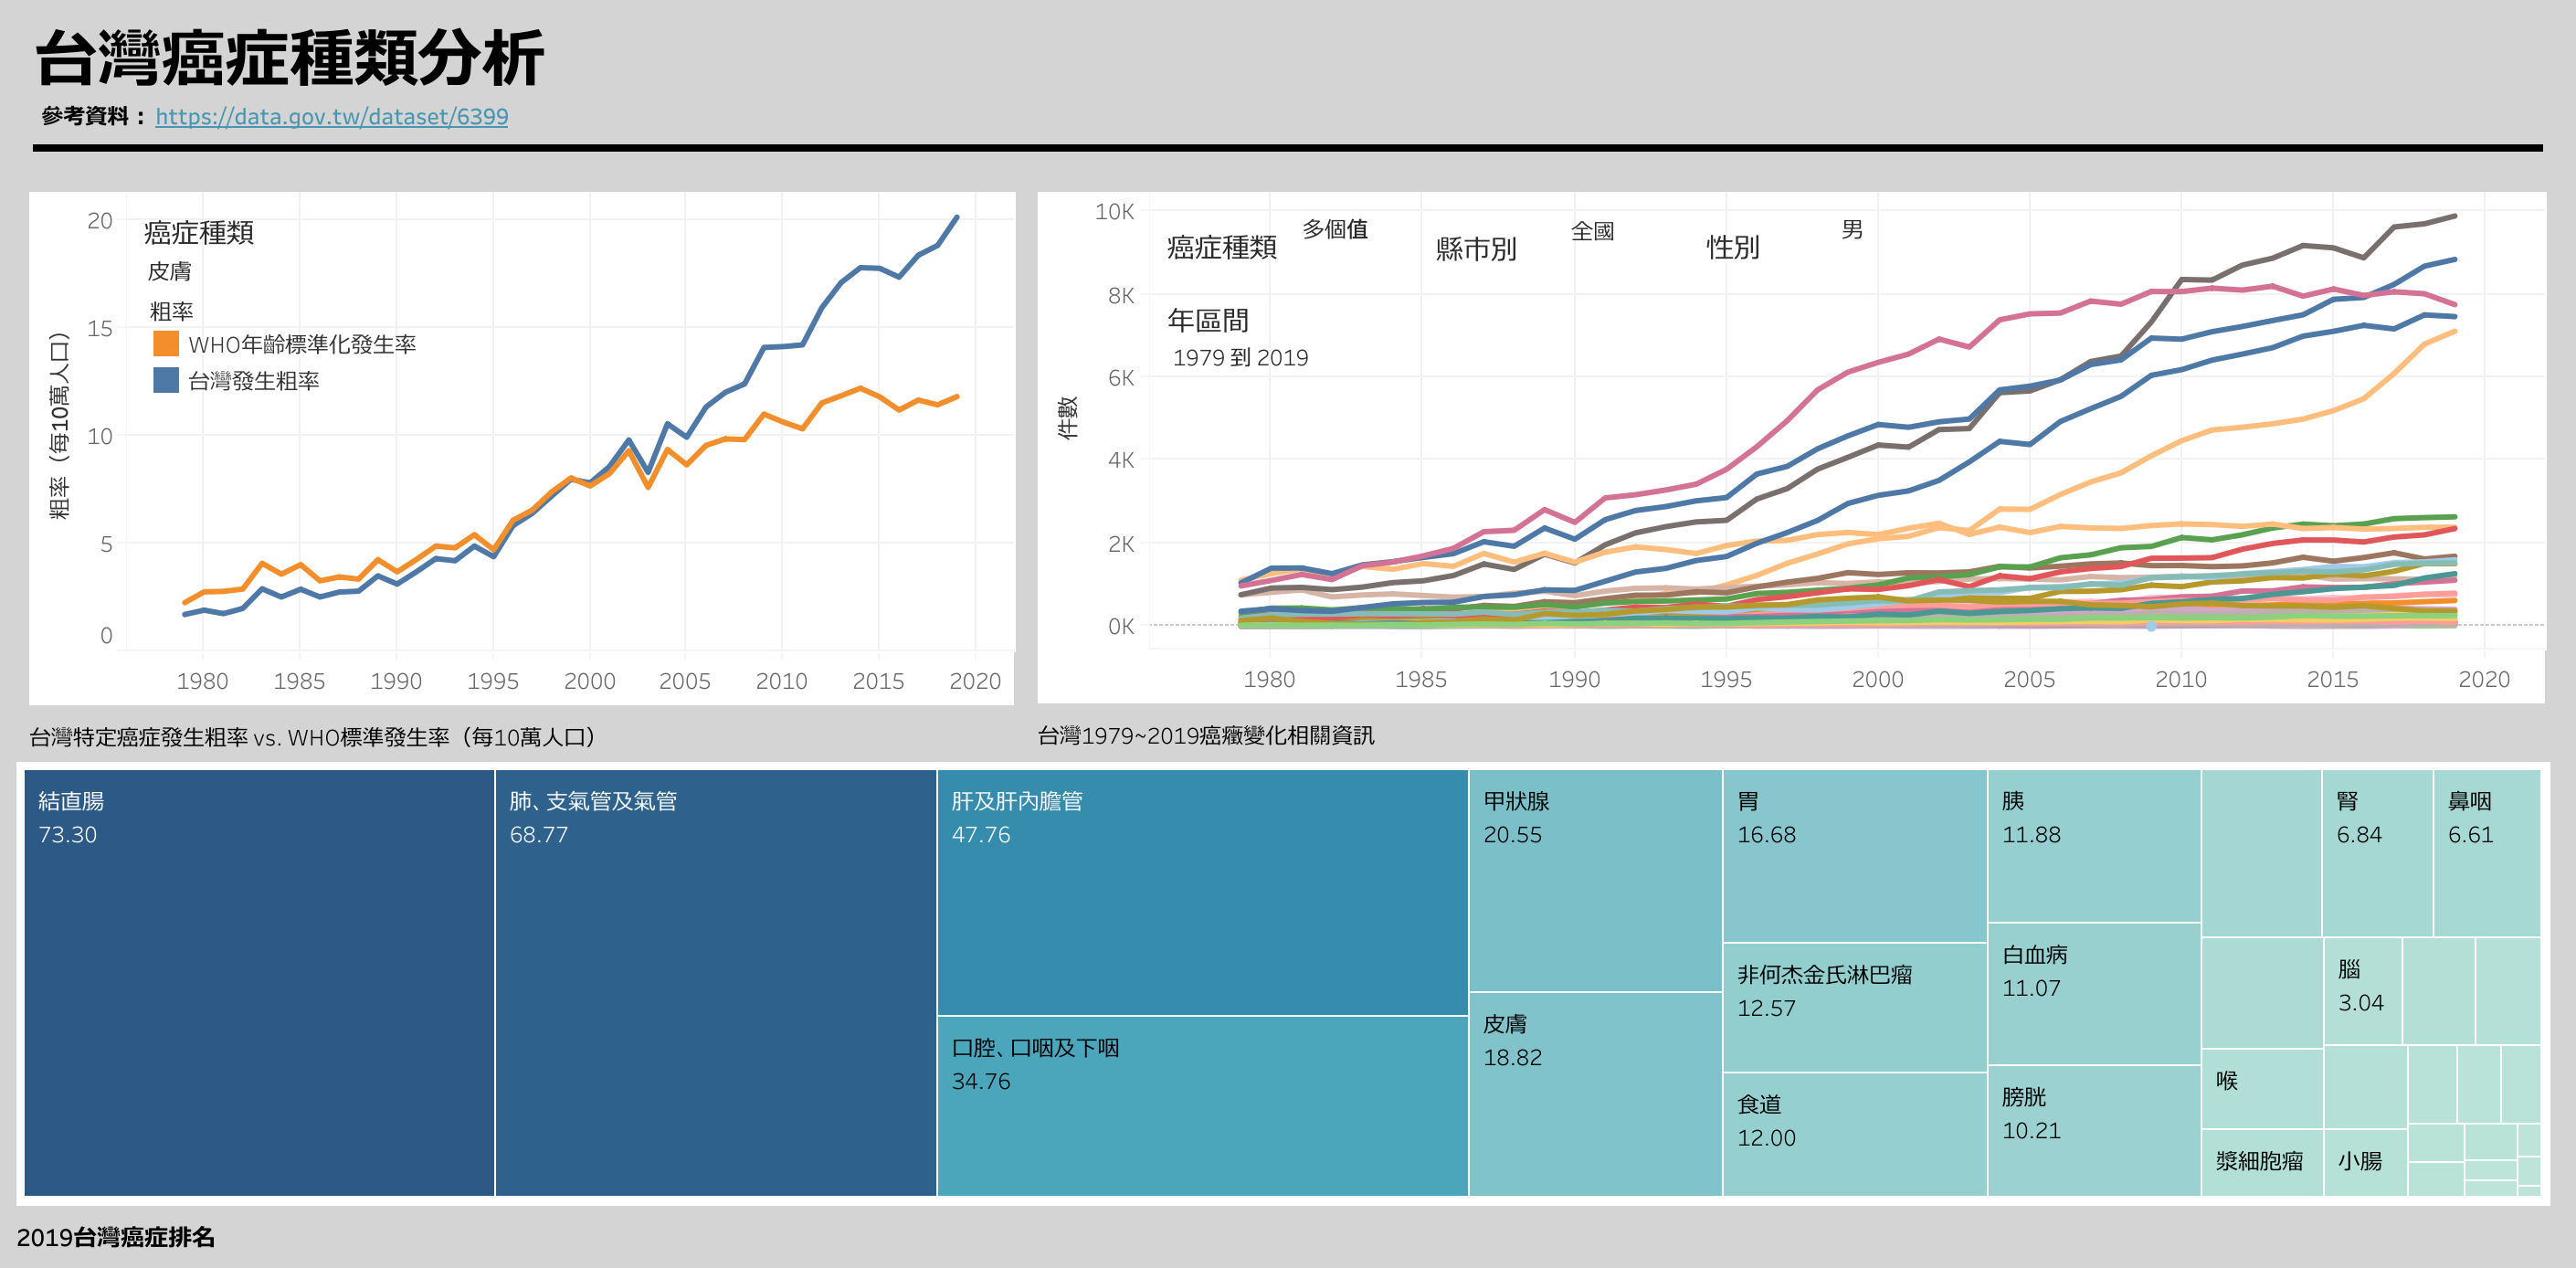

The dashboard page shown, as its layout file describes it:
{"tool":"tableau","page":{"name":"台灣癌症分析","canvas":[1000,1000],"units":"permille","ordinal":0},"visuals":[{"type":"text","box":[11.6,7.4,259.1,73]},{"type":"text","box":[14.1,71.8,218.4,37.1]},{"type":"worksheet","title":"Sheet 3","mark":"Automatic","cols":["year"],"box":[11.6,151,382.1,441.8]},{"type":"worksheet","title":"Sheet 1","mark":"Automatic","rows":["cases"],"cols":["year"],"box":[402.8,151,584.7,440.6]},{"type":"filter","title":"Sheet 3","param":"[federated.0l1vzc31bud3tw1cmi0tu0i4232z].[none:cancer:nk]","box":[55.6,165.8,93.9,73]},{"type":"filter","title":"Sheet 1","param":"[federated.0l1vzc31bud3tw1cmi0tu0i4232z].[none:cancer:nk]","box":[452.7,167.1,93,54.5]},{"type":"filter","title":"Sheet 1","param":"[federated.0l1vzc31bud3tw1cmi0tu0i4232z].[none:sex:nk]","box":[662,167.1,93,54.5]},{"type":"filter","title":"Sheet 1","param":"[federated.0l1vzc31bud3tw1cmi0tu0i4232z].[none:county:nk]","box":[557.3,168.3,94.7,54.5]},{"type":"legend","title":"Sheet 3","param":"[federated.0l1vzc31bud3tw1cmi0tu0i4232z].[:Measure Names]","box":[57.3,229,148.7,111.4]},{"type":"filter","title":"Sheet 1","param":"[federated.0l1vzc31bud3tw1cmi0tu0i4232z].[none:year:qk]","box":[452.7,235.2,188.5,76.7]},{"type":"worksheet","title":"Sheet 2","mark":"Automatic","box":[6.6,600.2,981.7,388.6]}]}

Visuals, with their boxes on the dashboard's canvas, which has no fixed pixel size, in thousandths of its width and height (x1, y1, x2, y2). These are canvas units, not pixel positions in the 2576x1268 screenshot, which may show the page scaled, cropped or inside an application window:
text: (12,7,271,80)
text: (14,72,232,109)
"Sheet 3" worksheet: (12,151,394,593)
"Sheet 1" worksheet: (403,151,988,592)
"Sheet 3" filter: (56,166,150,239)
"Sheet 1" filter: (453,167,546,222)
"Sheet 1" filter: (662,167,755,222)
"Sheet 1" filter: (557,168,652,223)
"Sheet 3" legend: (57,229,206,340)
"Sheet 1" filter: (453,235,641,312)
"Sheet 2" worksheet: (7,600,988,989)
